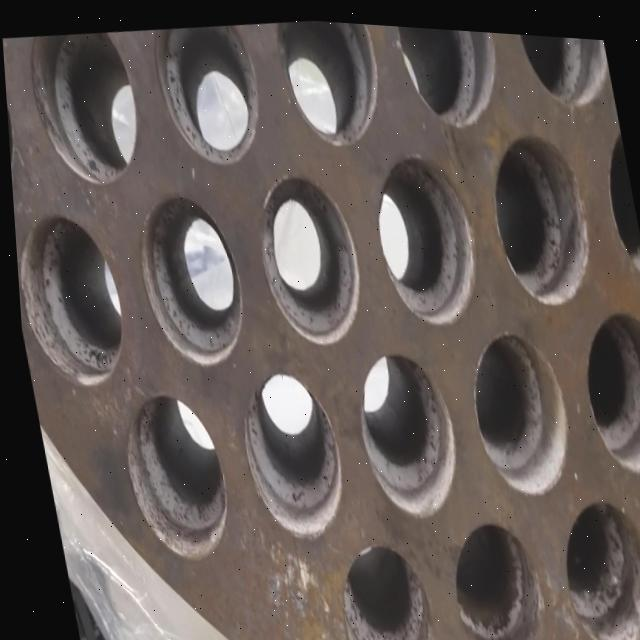Hole: (124, 182, 250, 371), (243, 162, 367, 348), (107, 382, 232, 566), (361, 141, 484, 327), (225, 360, 348, 542), (477, 119, 597, 304), (11, 204, 128, 392), (342, 339, 462, 519), (21, 23, 148, 190), (455, 318, 573, 495), (149, 15, 269, 170), (272, 14, 390, 147), (543, 483, 640, 640), (432, 506, 544, 640), (567, 294, 640, 471), (391, 20, 507, 128), (320, 529, 429, 640), (591, 105, 640, 280), (515, 27, 615, 105), (2, 38, 24, 203)
